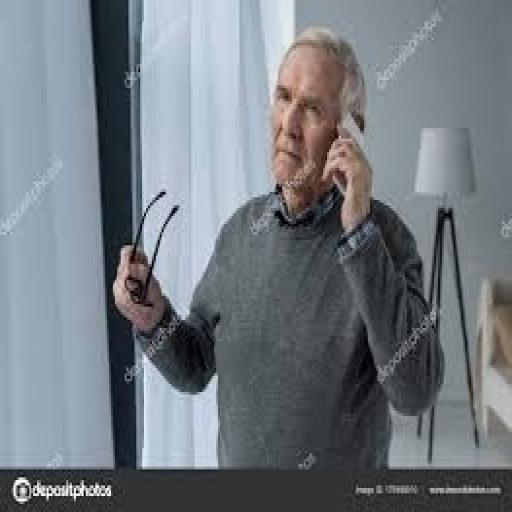calling: (111, 24, 446, 469)
